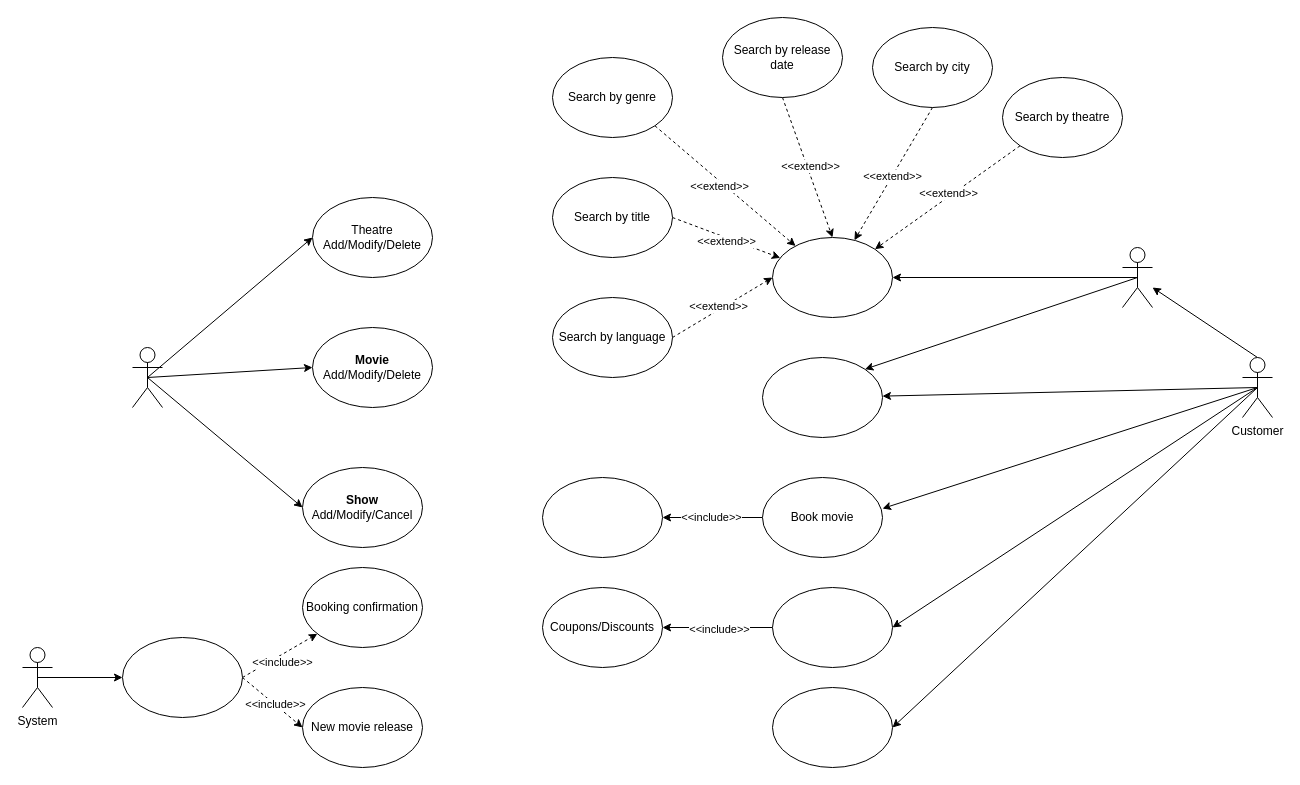
Some shapes in this 1300 by 785 pixel diagram are drawn without their labels. Each missing label, with the box of its shape:
Admin: (132, 346, 162, 408)
Cancel booking: (772, 686, 892, 768)
Guest: (1122, 246, 1152, 308)
Make payment: (772, 586, 892, 668)
Notifications: (122, 636, 242, 718)
Search movie: (772, 236, 892, 318)
Seat selection: (542, 476, 662, 558)
Sign up/ Login/ Logout/ Password Reset: (762, 356, 882, 438)
